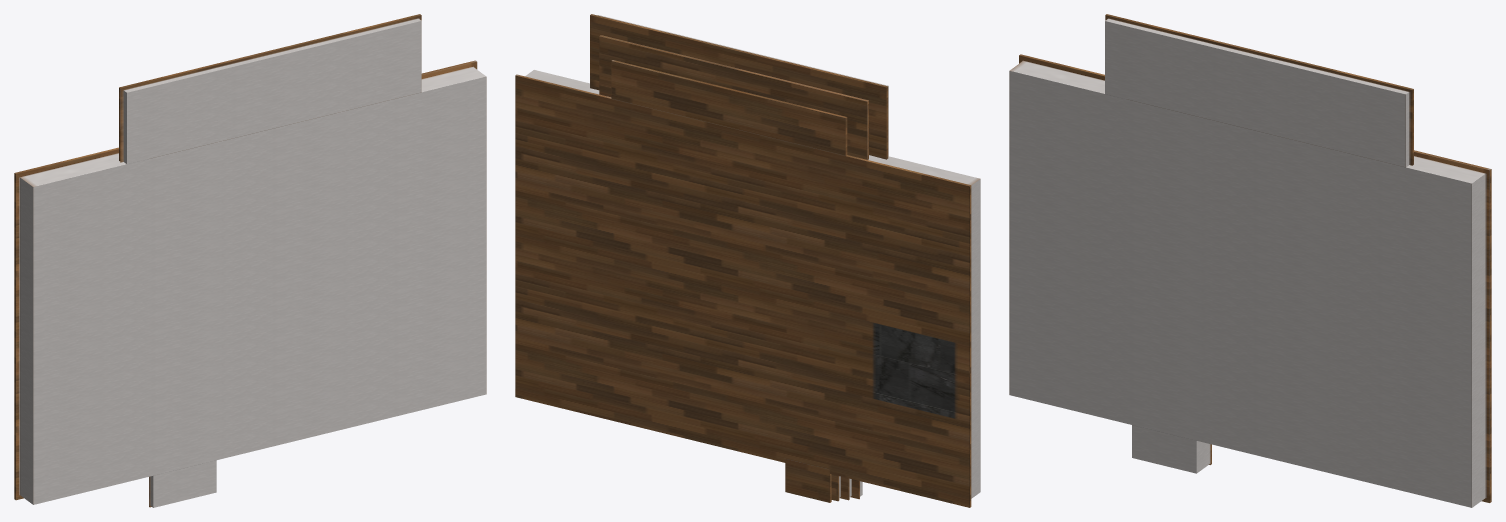
The model's file is Floor.fbx.
3 renders of one model, left to right at view 1: azimuth 30°, elevation 25°; view 2: azimuth 150°, elevation 25°; view 3: azimuth 330°, elevation 25°, orthographic. The views are drawn at different scales.
Visible parts, largest first — view 1: Cube.001; view 2: Cube.001; view 3: Cube.001.
Part boxes in pixels (x1,y1,x2,y2): Cube.001: (14,14,486,507); Cube.001: (515,14,980,507); Cube.001: (1009,14,1491,507).
Size of the model in its own units: 1387 by 1223 by 78.18.
1 material, 1 textured.
